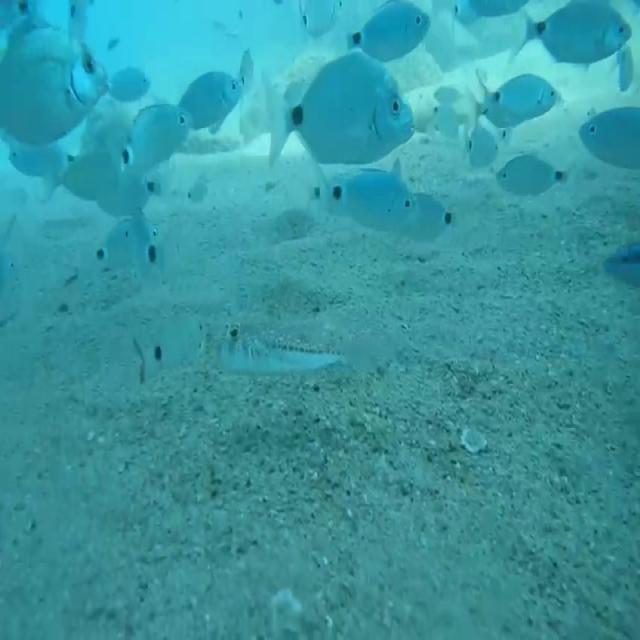Balon Baligi: (220, 323, 374, 372)
